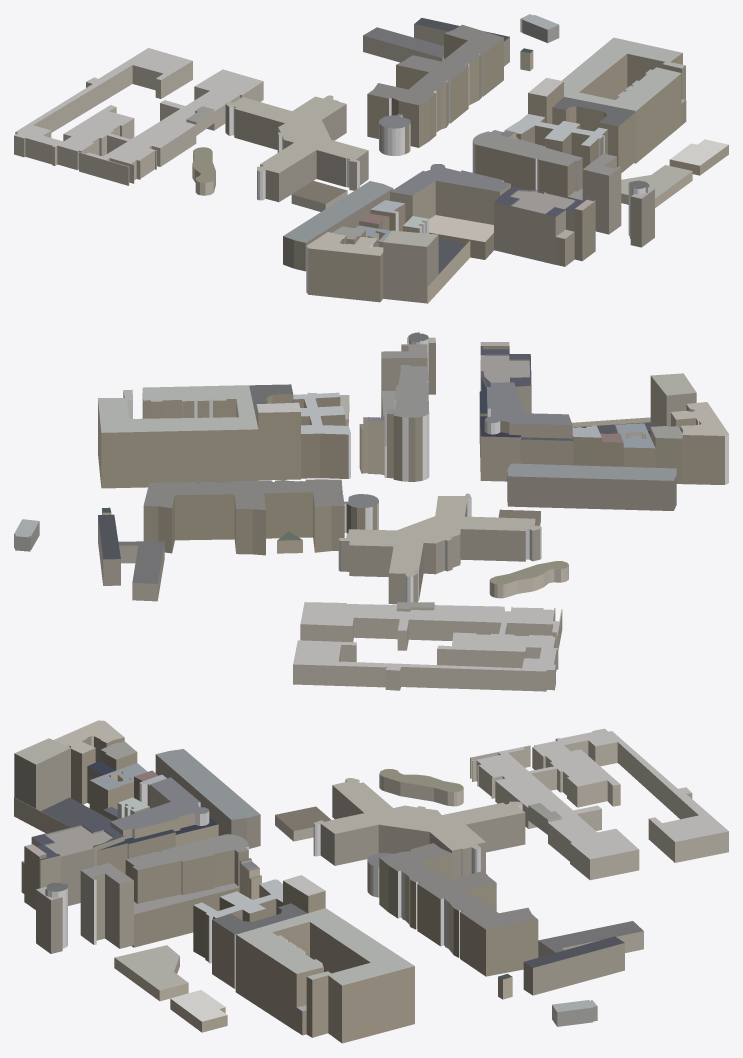
3 views of the same model, one above another, from view 1: azimuth 30°, elevation 25°; view 2: azimuth 150°, elevation 25°; view 3: azimuth 270°, elevation 25° (orthographic). The views are drawn at different scales.
Visible parts, largest first — view 1: tuile; view 2: tuile; view 3: tuile.
Boxes of the visible parts, bbox=[...] form: tuile: bbox=[14, 14, 728, 303]; tuile: bbox=[14, 332, 728, 691]; tuile: bbox=[14, 720, 728, 1043].
Bounding box in the file's own units: 308 × 37.5 × 314.
